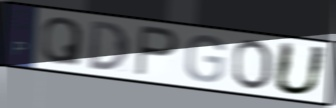D: (88, 19, 132, 72)
G: (182, 33, 227, 84)
O: (230, 38, 274, 92)
P: (133, 23, 181, 79)
Q: (39, 15, 85, 67)
U: (271, 40, 330, 97)
